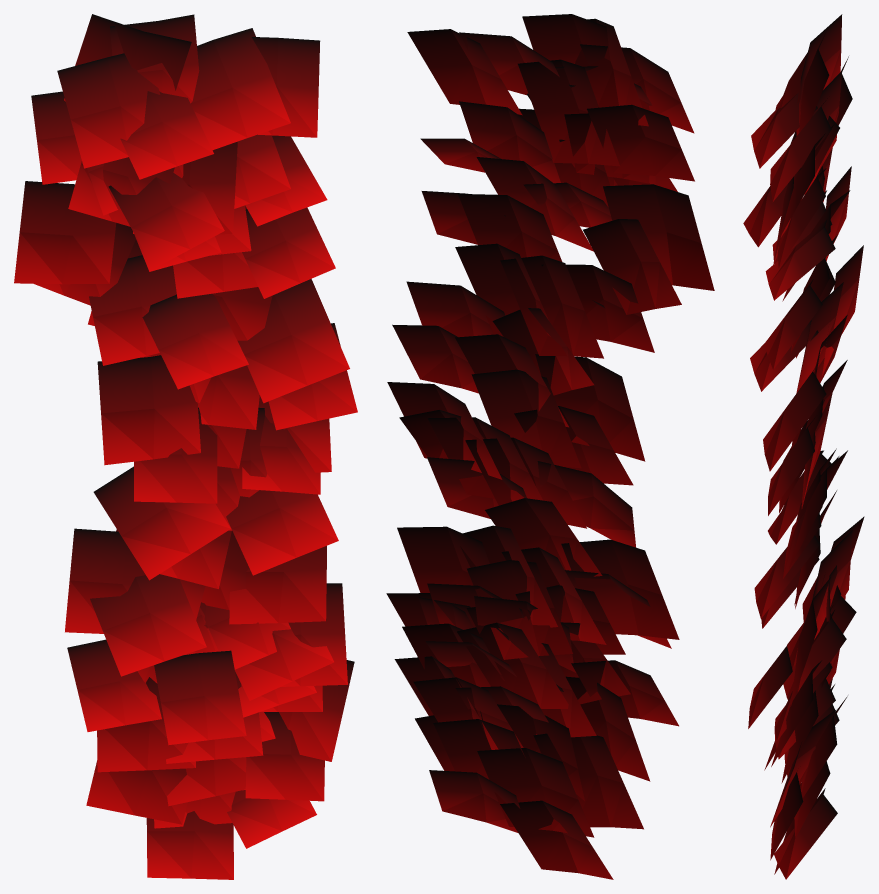
Rendered from Ivy03.fbx.
3 views of the same model, side by side, from view 1: azimuth 30°, elevation 25°; view 2: azimuth 150°, elevation 25°; view 3: azimuth 270°, elevation 25° (orthographic). The views are drawn at different scales.
Parts seen in each view (by area): view 1: transform22; view 2: transform22; view 3: transform22.
Boxes of the visible parts, <box> form: transform22: <box>14,14,357,879</box>; transform22: <box>386,14,714,879</box>; transform22: <box>743,14,864,879</box>.
Bounding box in the file's own units: 209 × 533 × 72.15.
